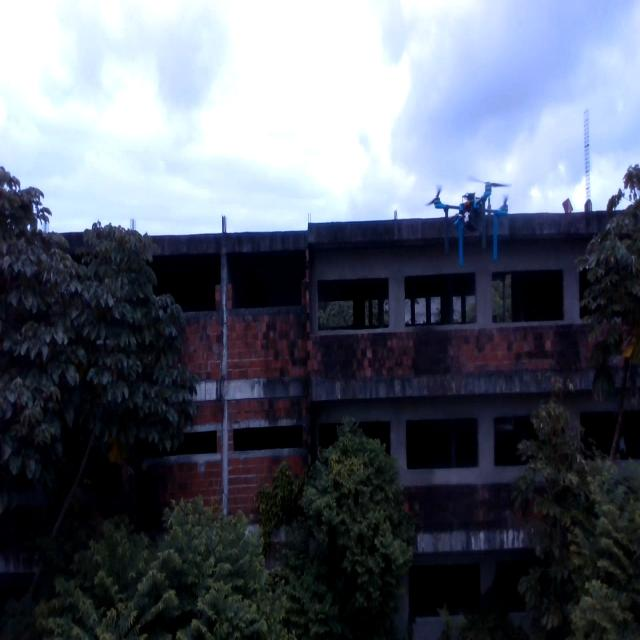-uav-: (419, 175, 521, 281)
